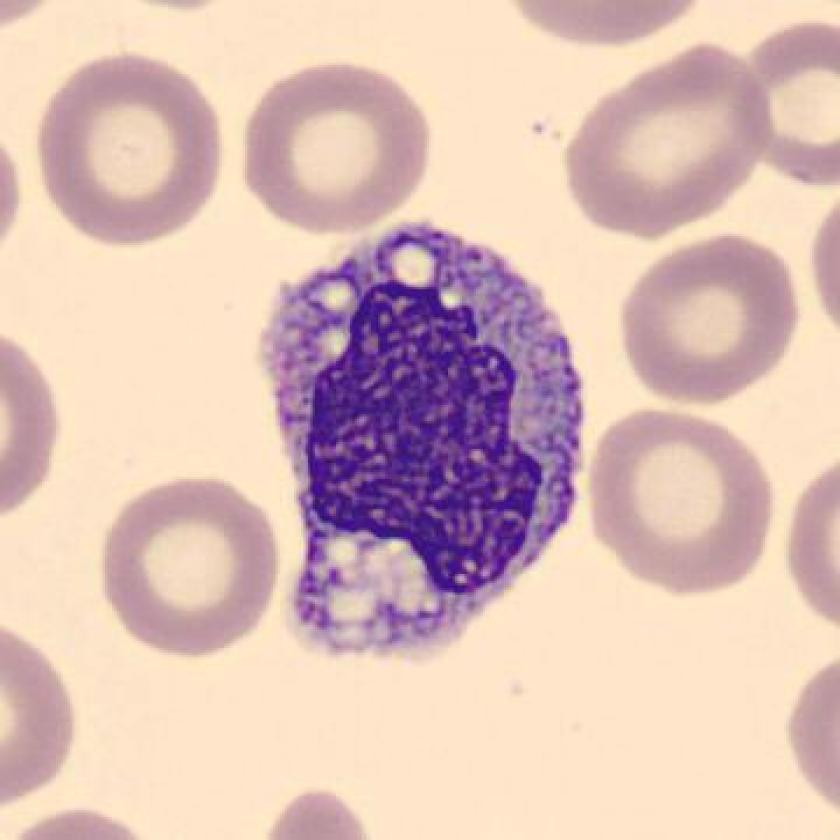monocyte: (237, 207, 610, 691)
